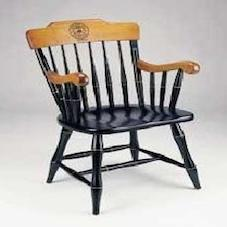chair: (3, 5, 219, 219)
